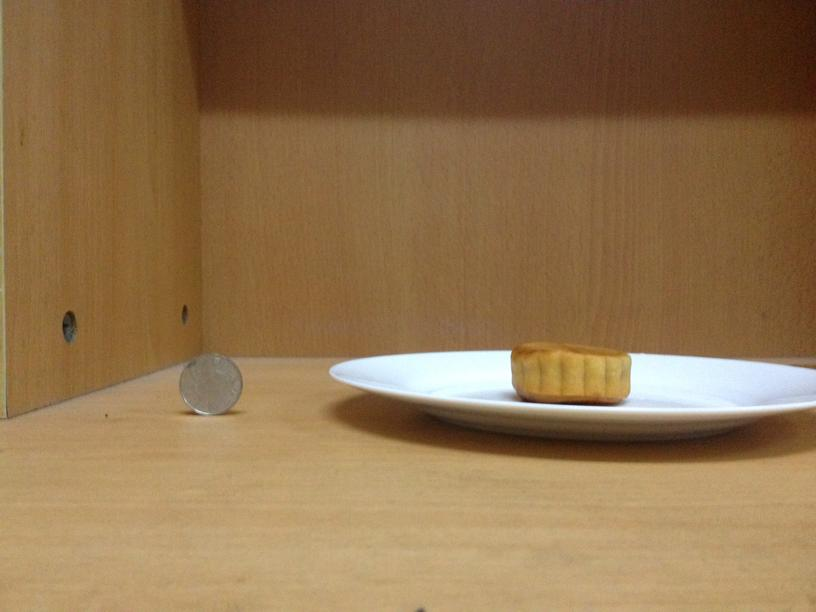coin: (177, 355, 244, 416)
mooncake: (507, 339, 631, 402)
